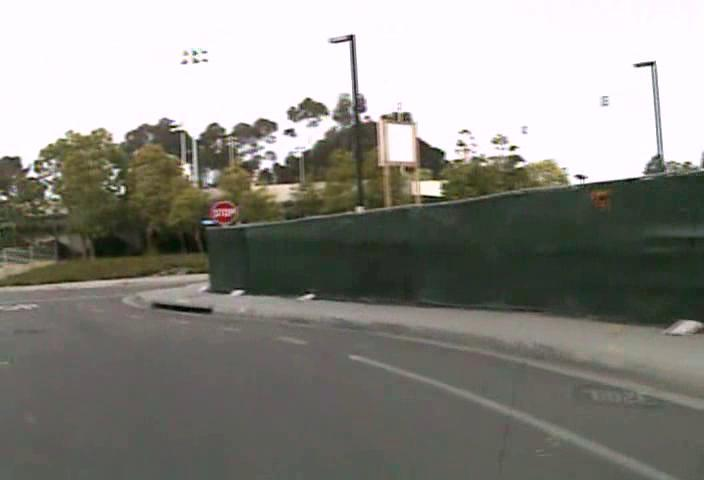stop: (210, 200, 238, 226)
